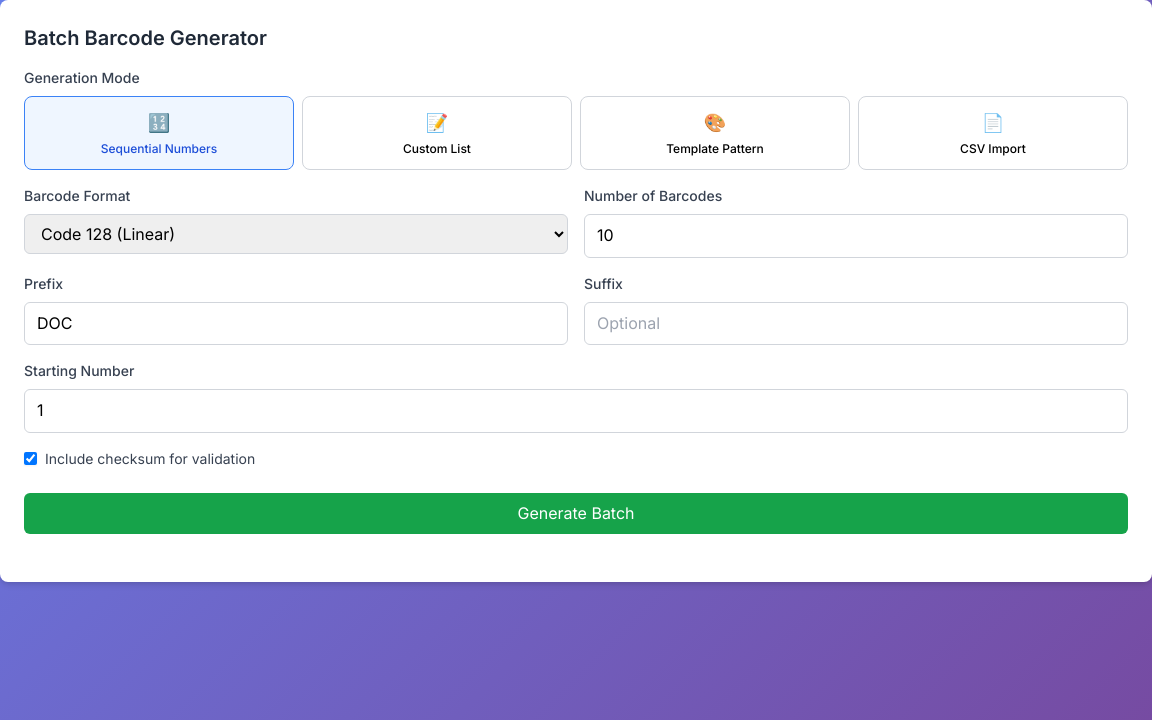
Test: BatchGenerator › validates CSV data
// Switch to CSV mode
What coordinates should you click on to do the following:
click the text "CSV Import"
I would click on:
 (993, 148)
Its box is top-left (960, 141), bottom-right (1026, 156).
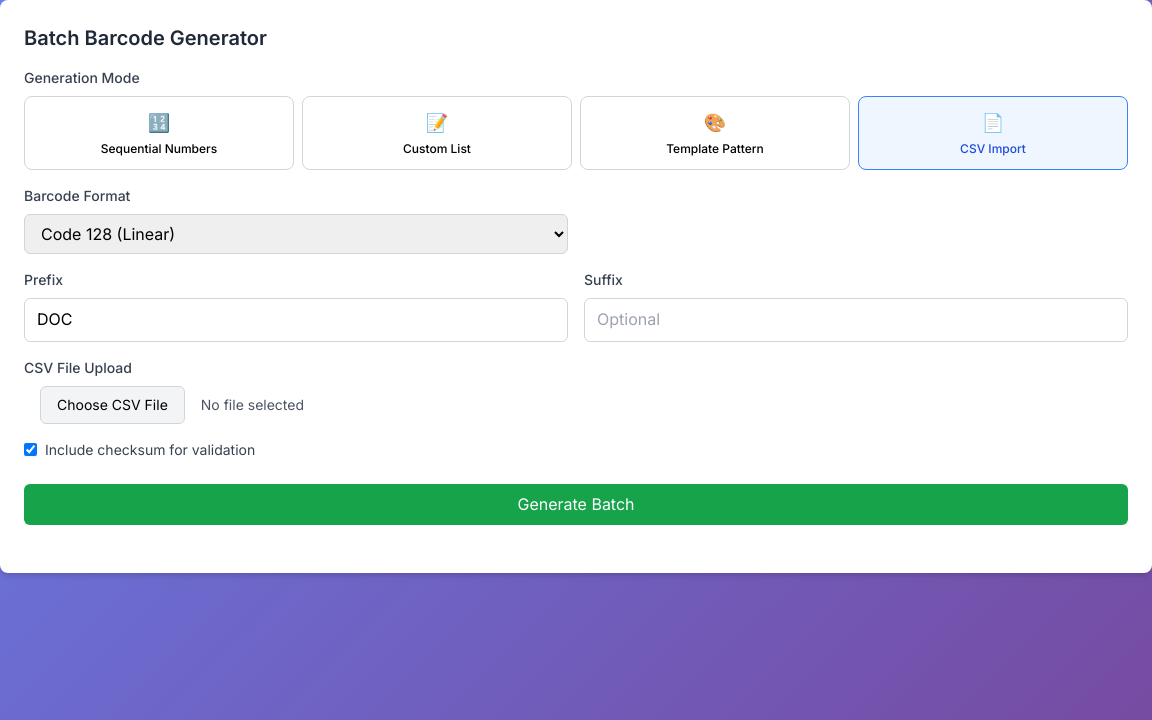
Now the button "Choose CSV File" is shown, box top-left (40, 386), bottom-right (185, 424)
Now the text "No file selected" is shown, box top-left (201, 395), bottom-right (304, 415)
